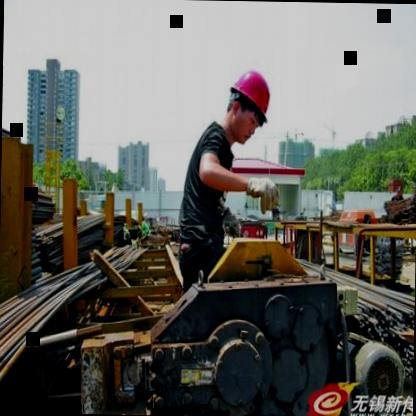helmet: (219, 59, 276, 149)
